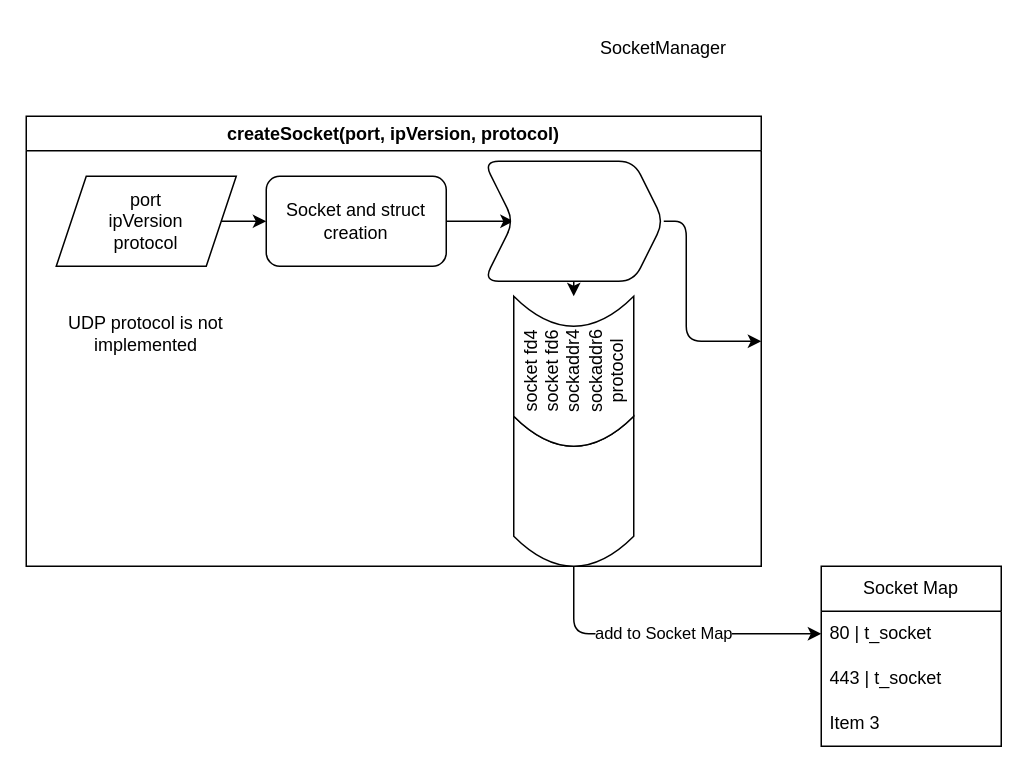
The diagram is 1028 pixels wide and 773 high, and some of its shapes have lost their labels. Here are the shapes that lost their labels. From the top down, the centre of each, then its label:
At (573,220): "bind sokets to ports".
At (573,490): "port".
